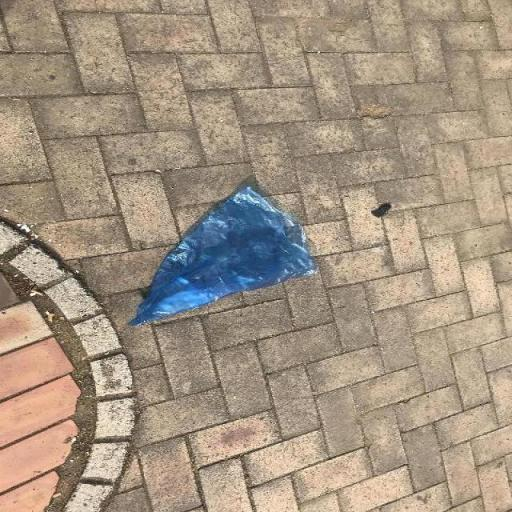plastic-bag: (130, 178, 318, 328)
